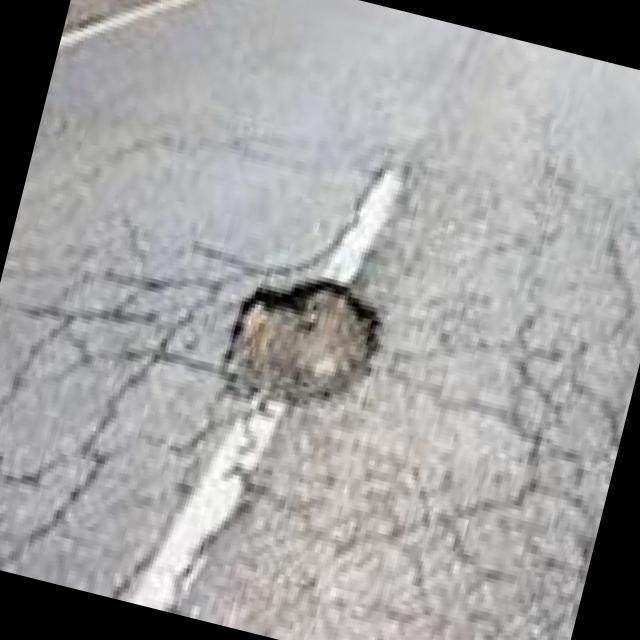Pothole: (213, 251, 396, 439)
